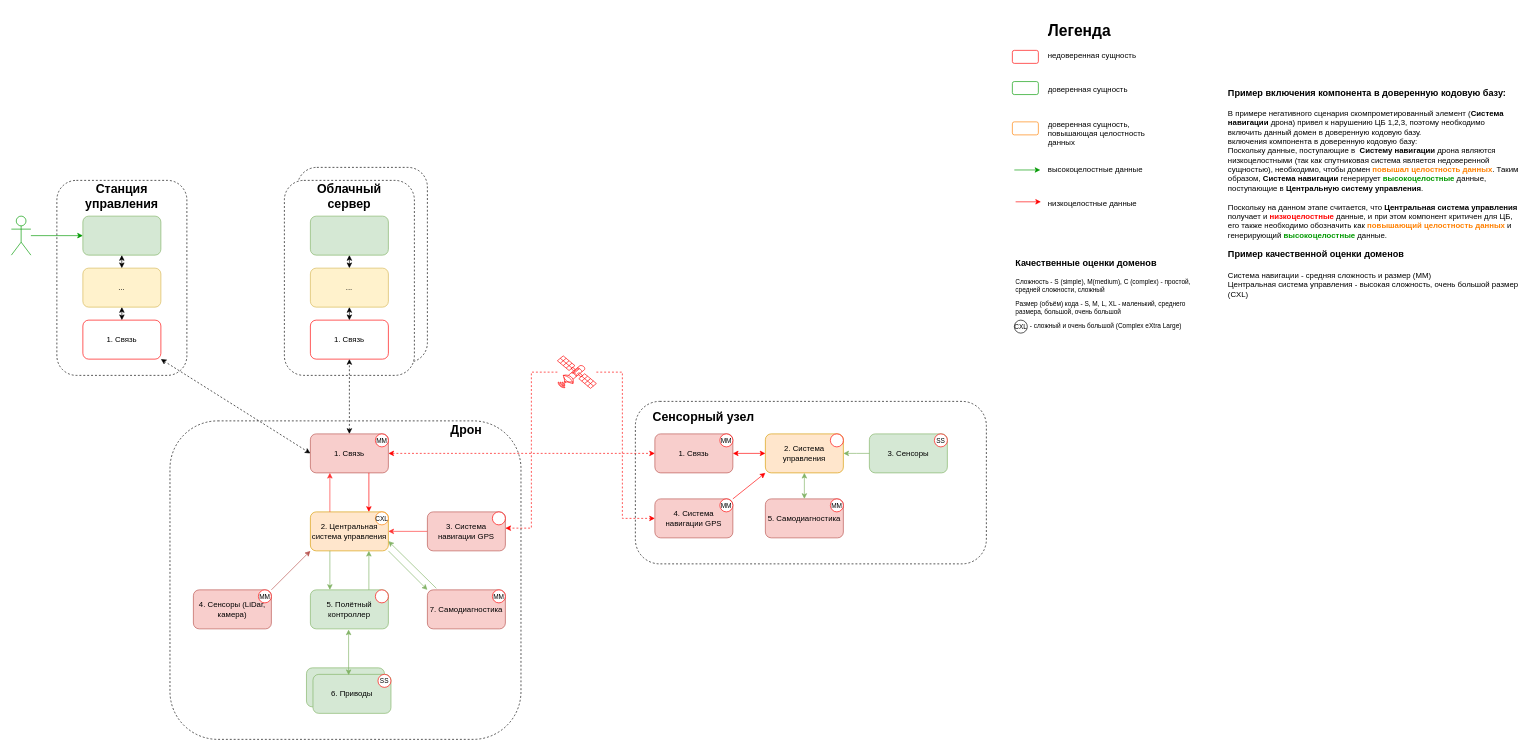
Image size: 1531x751. Some labels were removed from this diagram. Here are the shapes that lost their labels. From the top down, the centre of each, then its label:
At (121,235): "2. Терминал управления".
At (349,235): "2. Вычислительное ядро".
At (836,440): "CM".
At (498,518): "ММ".
At (381,596): "ML".
